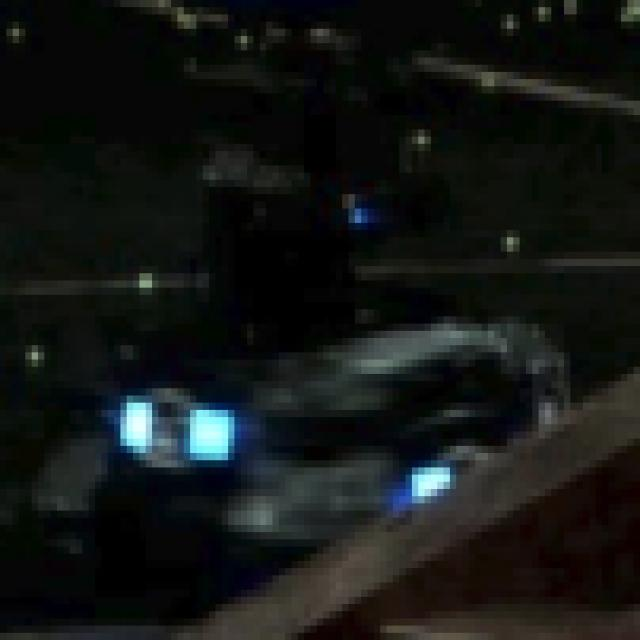Bs: (114, 388, 241, 468)
